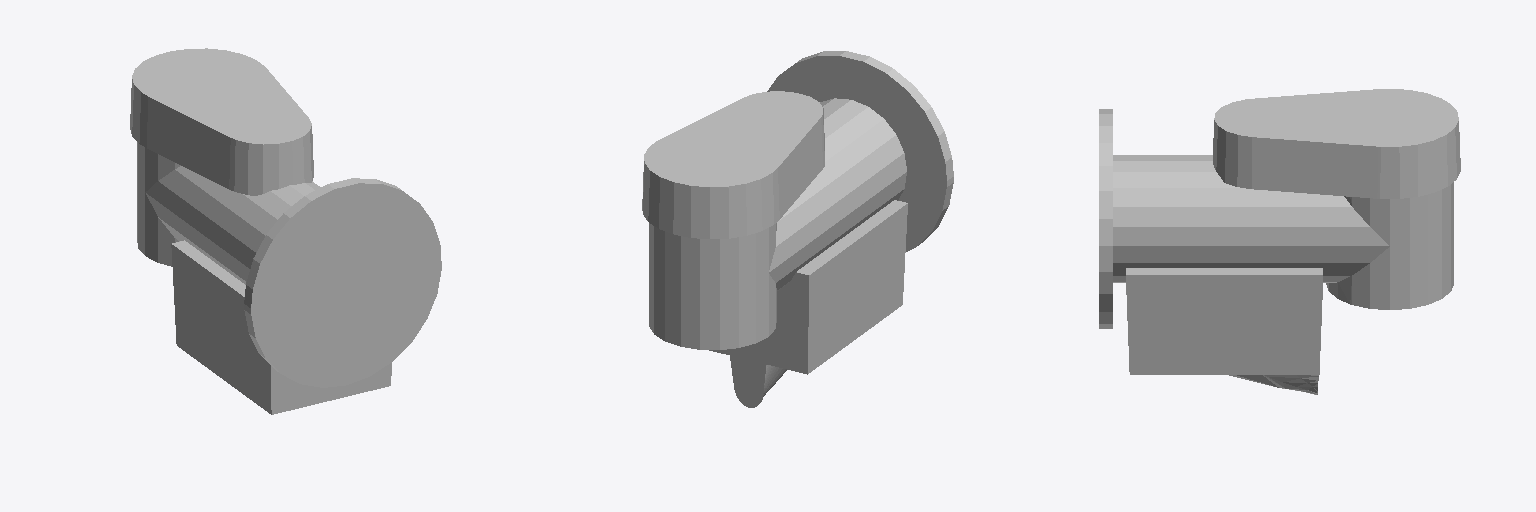
The model's file is RWY.obj.
The picture shows the model from 3 angles: view 1: azimuth 30°, elevation 25°; view 2: azimuth 150°, elevation 25°; view 3: azimuth 270°, elevation 25°; orthographic projection.
Visible parts, largest first — view 1: Shape_IndexedFaceSet.003_Shape_IndexedFaceSet.068, Shape_IndexedFaceSet.001_Shape_IndexedFaceSet.066, Shape_IndexedFaceSet_Shape_IndexedFaceSet.065, Shape_IndexedFaceSet.002_Shape_IndexedFaceSet.067; view 2: Shape_IndexedFaceSet_Shape_IndexedFaceSet.065, Shape_IndexedFaceSet.001_Shape_IndexedFaceSet.066, Shape_IndexedFaceSet.002_Shape_IndexedFaceSet.067, Shape_IndexedFaceSet.003_Shape_IndexedFaceSet.068, Shape_IndexedFaceSet.004_Shape_IndexedFaceSet.069; view 3: Shape_IndexedFaceSet_Shape_IndexedFaceSet.065, Shape_IndexedFaceSet.001_Shape_IndexedFaceSet.066, Shape_IndexedFaceSet.002_Shape_IndexedFaceSet.067, Shape_IndexedFaceSet.003_Shape_IndexedFaceSet.068, Shape_IndexedFaceSet.004_Shape_IndexedFaceSet.069.
Boxes of the visible parts, x1=… form: Shape_IndexedFaceSet.003_Shape_IndexedFaceSet.068: x1=244, y1=178, x2=441, y2=387; Shape_IndexedFaceSet.001_Shape_IndexedFaceSet.066: x1=130, y1=48, x2=313, y2=195; Shape_IndexedFaceSet_Shape_IndexedFaceSet.065: x1=137, y1=142, x2=320, y2=284; Shape_IndexedFaceSet.002_Shape_IndexedFaceSet.067: x1=171, y1=240, x2=391, y2=414; Shape_IndexedFaceSet_Shape_IndexedFaceSet.065: x1=649, y1=98, x2=906, y2=349; Shape_IndexedFaceSet.001_Shape_IndexedFaceSet.066: x1=642, y1=91, x2=824, y2=238; Shape_IndexedFaceSet.002_Shape_IndexedFaceSet.067: x1=709, y1=200, x2=907, y2=374; Shape_IndexedFaceSet.003_Shape_IndexedFaceSet.068: x1=767, y1=51, x2=953, y2=251; Shape_IndexedFaceSet.004_Shape_IndexedFaceSet.069: x1=730, y1=356, x2=786, y2=407; Shape_IndexedFaceSet_Shape_IndexedFaceSet.065: x1=1113, y1=155, x2=1453, y2=309; Shape_IndexedFaceSet.001_Shape_IndexedFaceSet.066: x1=1213, y1=89, x2=1460, y2=198; Shape_IndexedFaceSet.002_Shape_IndexedFaceSet.067: x1=1126, y1=268, x2=1322, y2=374; Shape_IndexedFaceSet.003_Shape_IndexedFaceSet.068: x1=1099, y1=109, x2=1112, y2=328; Shape_IndexedFaceSet.004_Shape_IndexedFaceSet.069: x1=1229, y1=375, x2=1318, y2=394.
Bounding box in the file's own units: 0.0719 × 0.0995 × 0.1182.